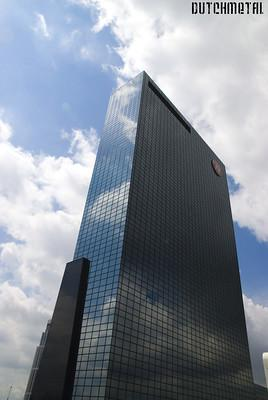building: (21, 69, 257, 400)
